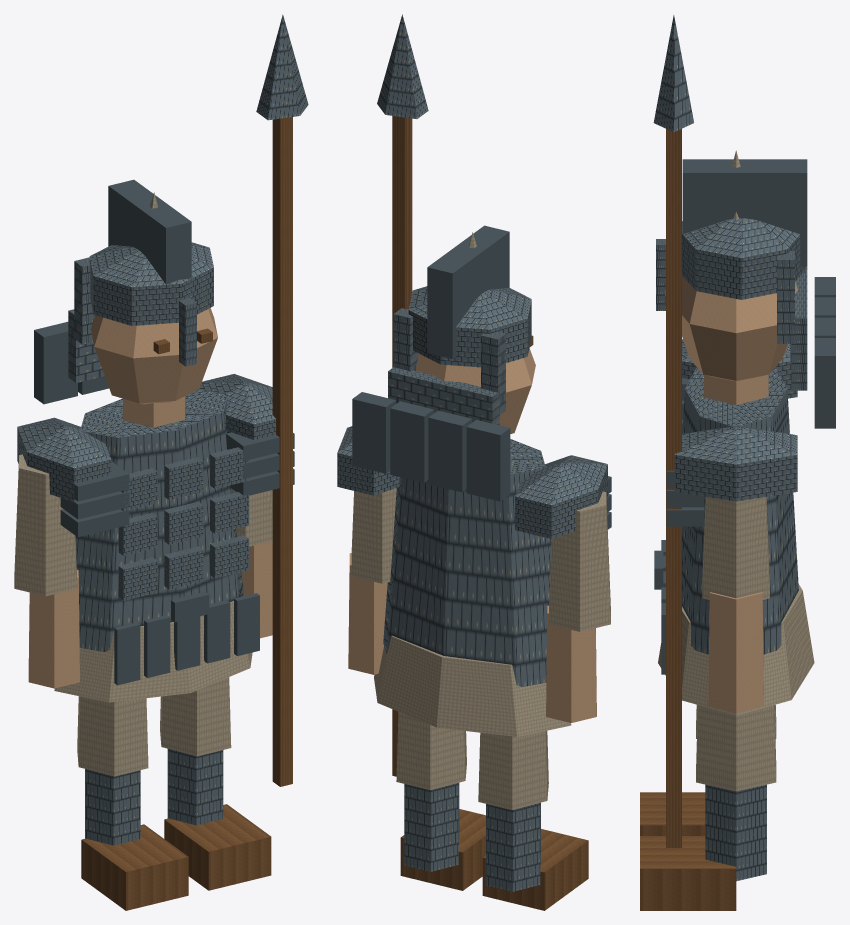
The model's file is unit-SPEAR-lod0.glb.
3 views of the same model, side by side, from view 1: azimuth 30°, elevation 25°; view 2: azimuth 150°, elevation 25°; view 3: azimuth 270°, elevation 25° (orthographic). The views are drawn at different scales.
Bounding box in the file's own units: 0.187 × 0.565 × 0.11.
1 material, 1 textured.
